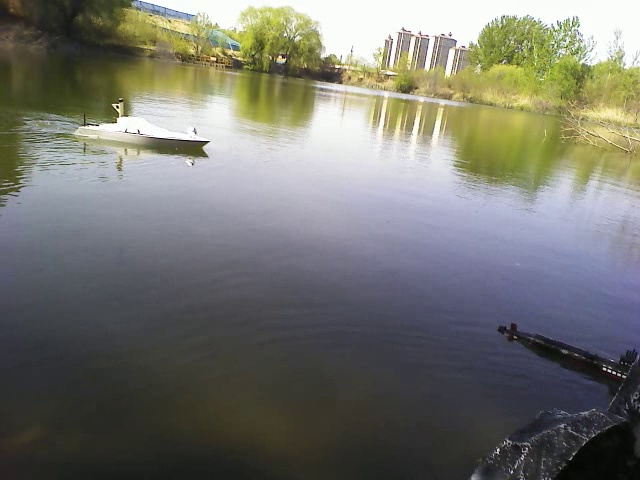boat: (74, 113, 217, 152)
rock: (475, 393, 634, 471)
submarine: (497, 317, 633, 380)
